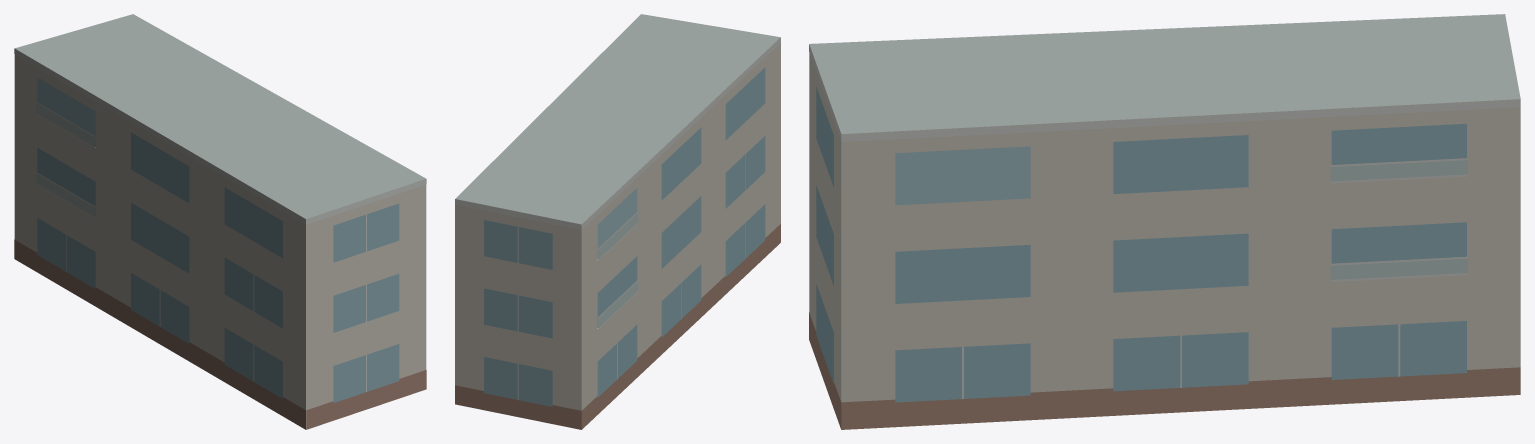
The model's file is survey-upis-32680762.glb.
3 views of the same model, side by side, from view 1: azimuth 30°, elevation 25°; view 2: azimuth 150°, elevation 25°; view 3: azimuth 270°, elevation 25° (orthographic). The views are drawn at different scales.
Parts seen in each view (by area): view 1: survey-upis-32680762.tmp; view 2: survey-upis-32680762.tmp; view 3: survey-upis-32680762.tmp.
Boxes of the visible parts, x1,y1,x2,y2 form: survey-upis-32680762.tmp: (14,14,426,429); survey-upis-32680762.tmp: (455,14,780,429); survey-upis-32680762.tmp: (809,14,1520,429).
Size of the model in its own units: 7.98 by 9.15 by 19.97.
